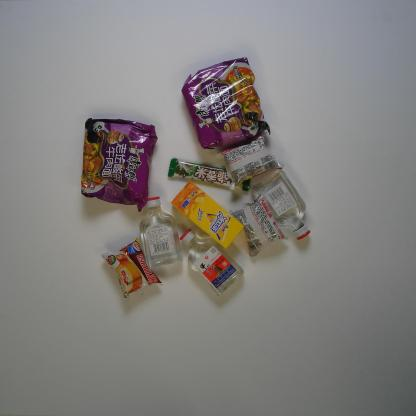Alcohol: (178, 223, 246, 296), (254, 168, 312, 242), (139, 193, 183, 269)
Chocolate: (167, 158, 251, 193)
Dessert: (100, 236, 162, 302), (228, 191, 284, 257), (215, 133, 284, 185)
Drink: (170, 179, 242, 250)
Instant Noodles: (180, 57, 272, 152), (79, 116, 158, 212)
